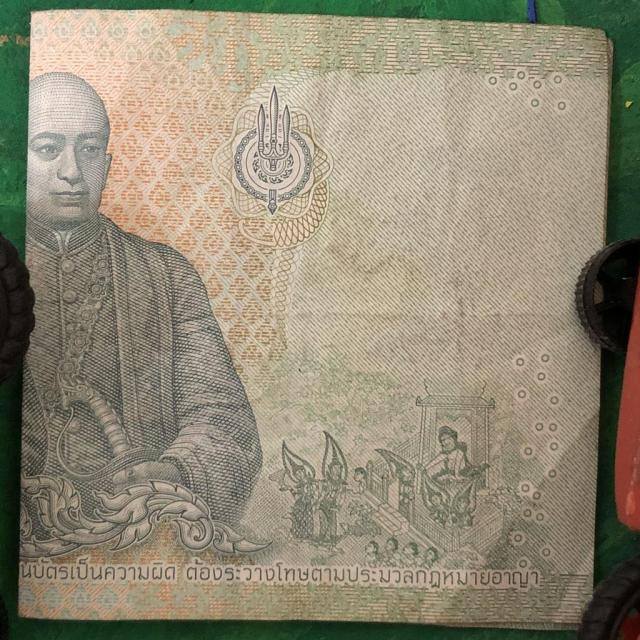THAI20: (16, 10, 613, 639)
